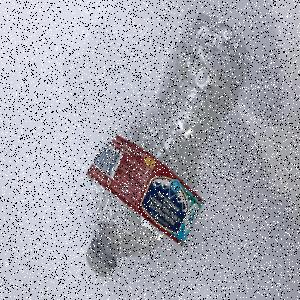Plastic-bottle: (86, 13, 253, 279)
